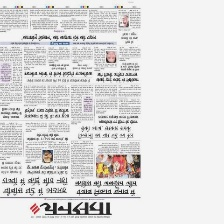news_paper: (0, 0, 142, 219)
